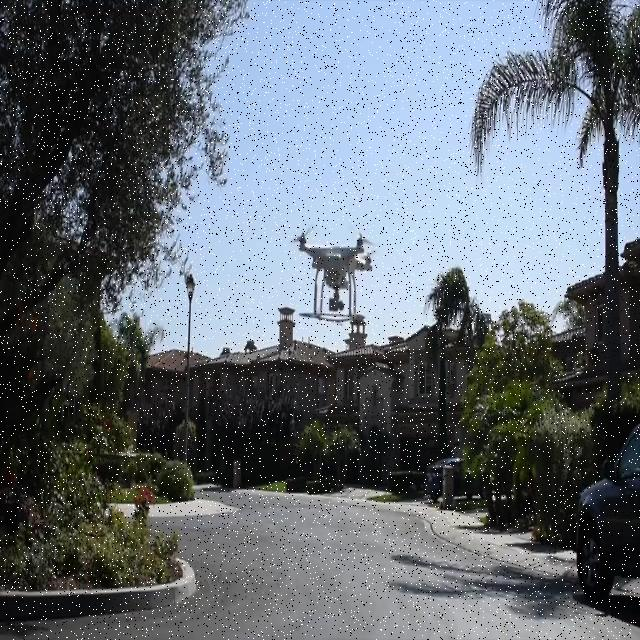UAV: (289, 225, 376, 324)
